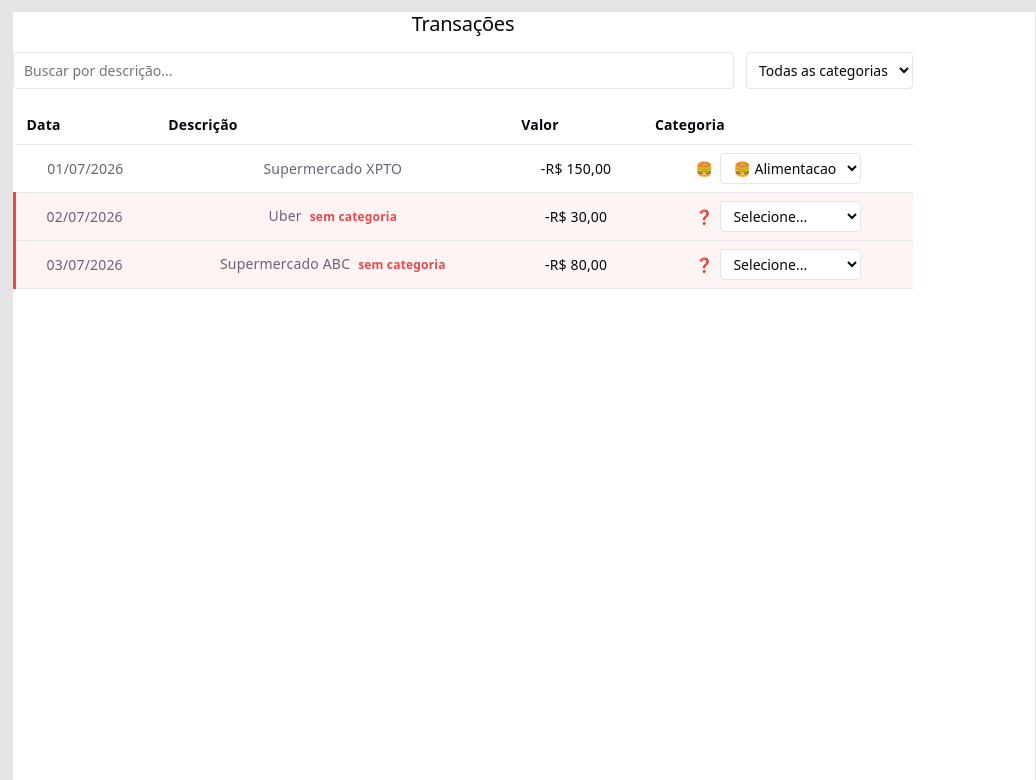
Scenario: TransactionsPage › busca textual filtra por descricao (case-insensitive)
The width and height of the screenshot is (1036, 780).
Check: the text "Supermercado XPTO" is shown, box [156, 144, 509, 192]
In the field with placeholder "Buscar por descrição...": point(374, 70) [13, 52, 734, 89], type "supermercado"
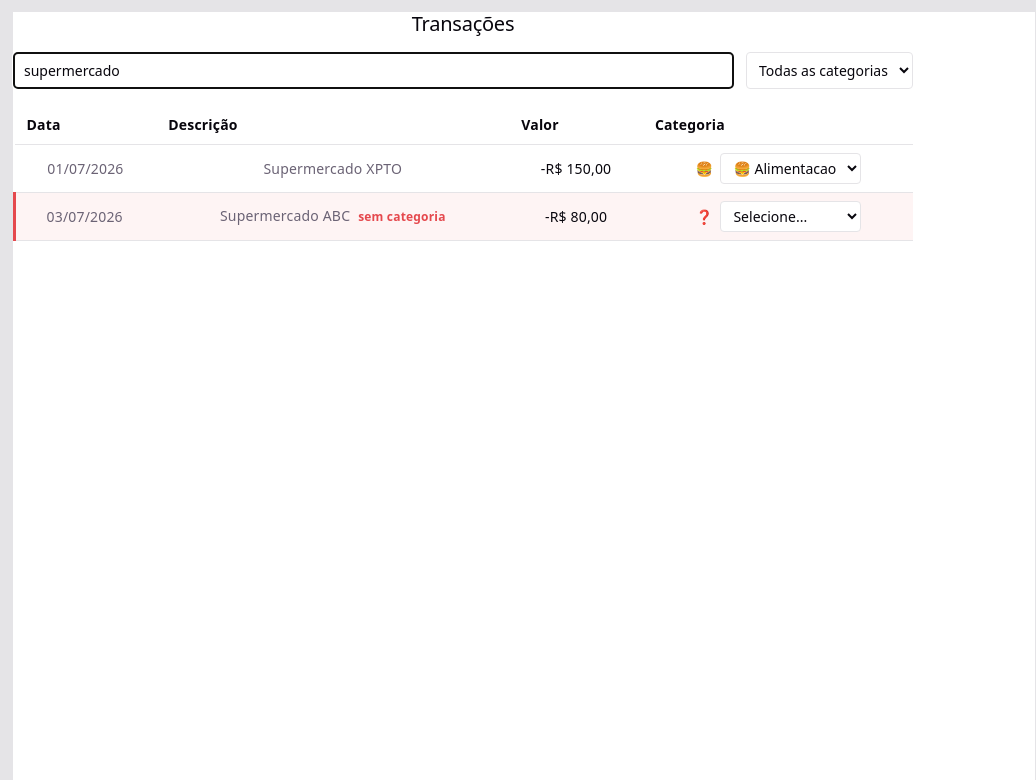
Check: the text "Supermercado XPTO" is shown, box [156, 144, 509, 192]
Check: the text "Uber" is gone
